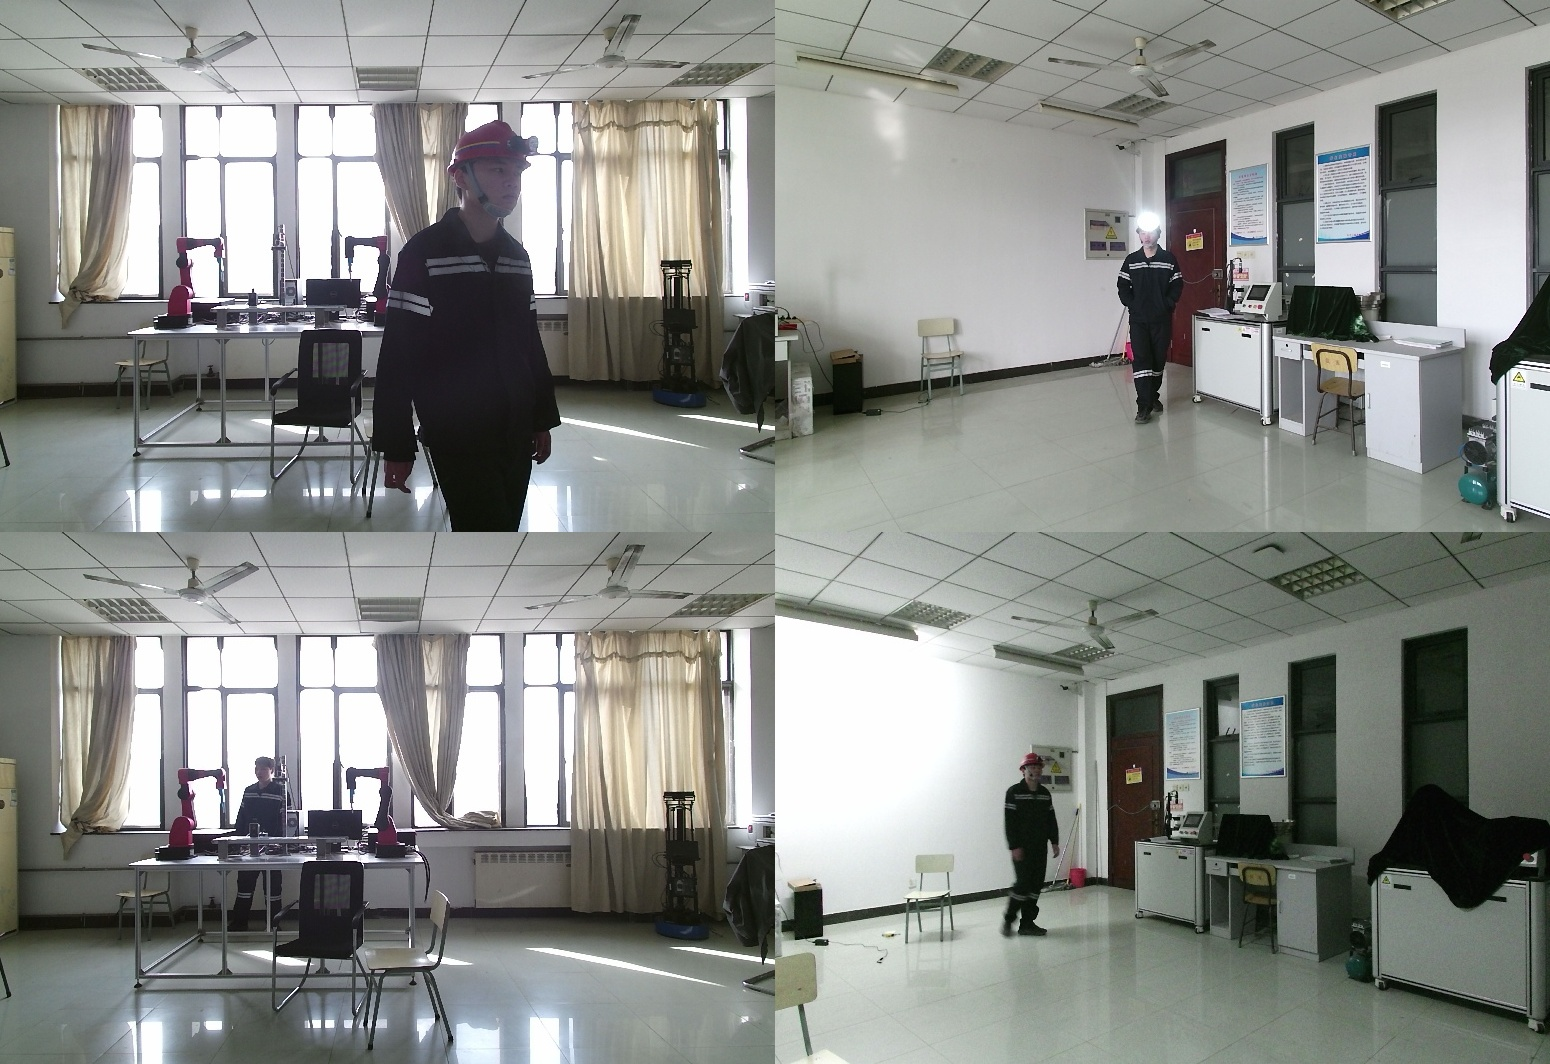person: (383, 121, 571, 532), (1114, 221, 1189, 429), (989, 757, 1056, 949), (229, 756, 297, 934)
